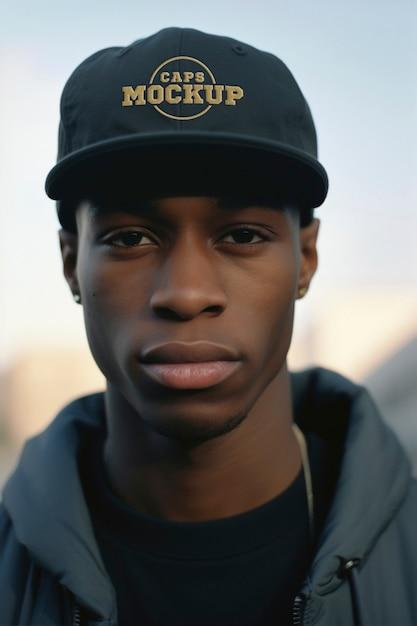cap: (42, 20, 332, 212)
